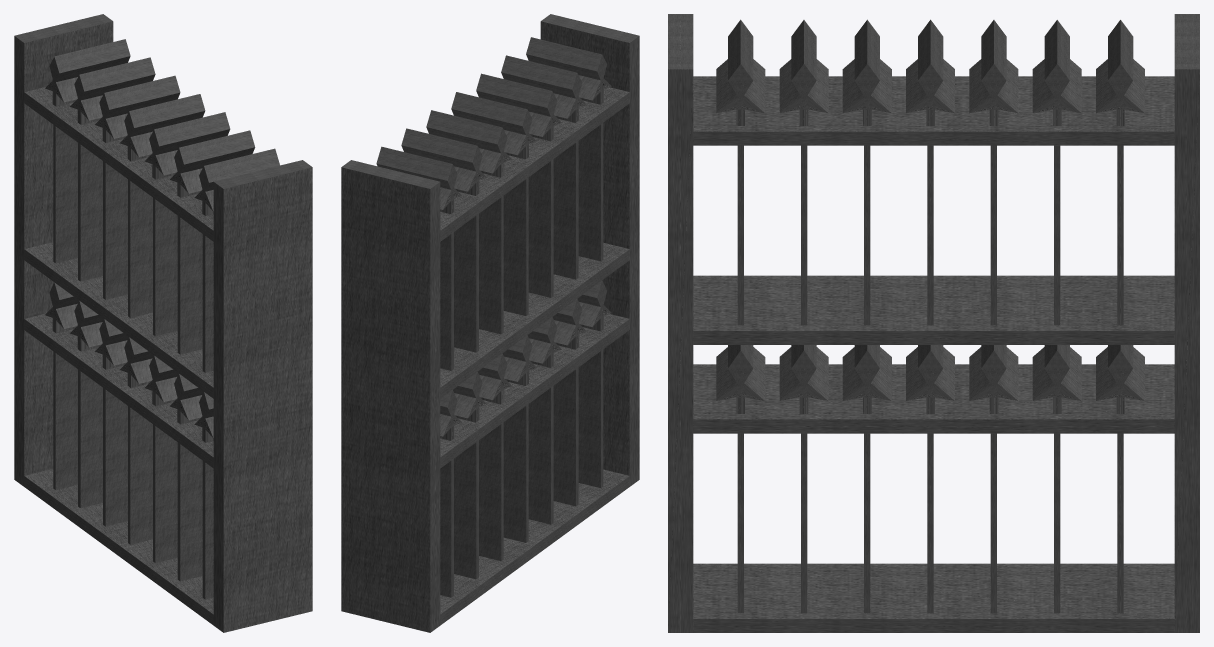
The model's file is Iron_Gate_1.5_7_6_Colored.fbx.
3 views of the same model, side by side, from view 1: azimuth 30°, elevation 25°; view 2: azimuth 150°, elevation 25°; view 3: azimuth 270°, elevation 25° (orthographic). The views are drawn at different scales.
Visible parts, largest first — view 1: Iron_Gate_v05; view 2: Iron_Gate_v05; view 3: Iron_Gate_v05.
Part boxes in pixels (left/top/right/bottom): Iron_Gate_v05: left=14, top=14, right=312, bottom=632; Iron_Gate_v05: left=341, top=14, right=639, bottom=632; Iron_Gate_v05: left=668, top=14, right=1199, bottom=632.
Bounding box in the file's own units: 146 × 693 × 593.
1 material, 1 textured.
